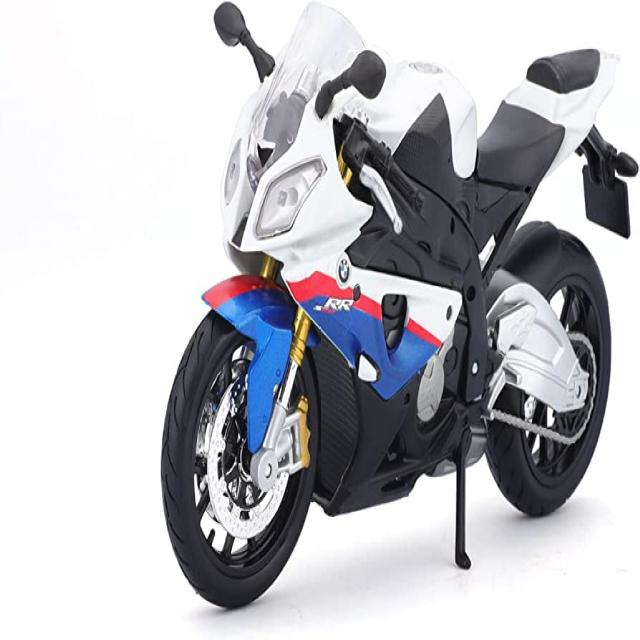Motorcycle: (161, 4, 639, 607)
